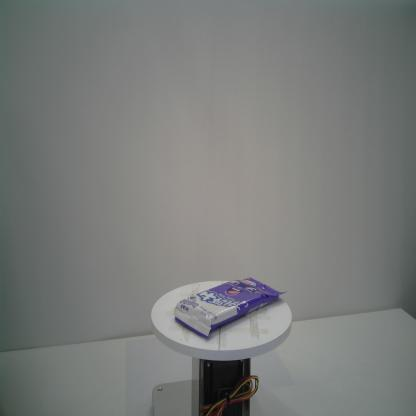Candy: (173, 276, 287, 339)
